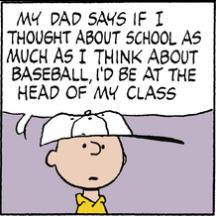charlie: (40, 110, 131, 214)
